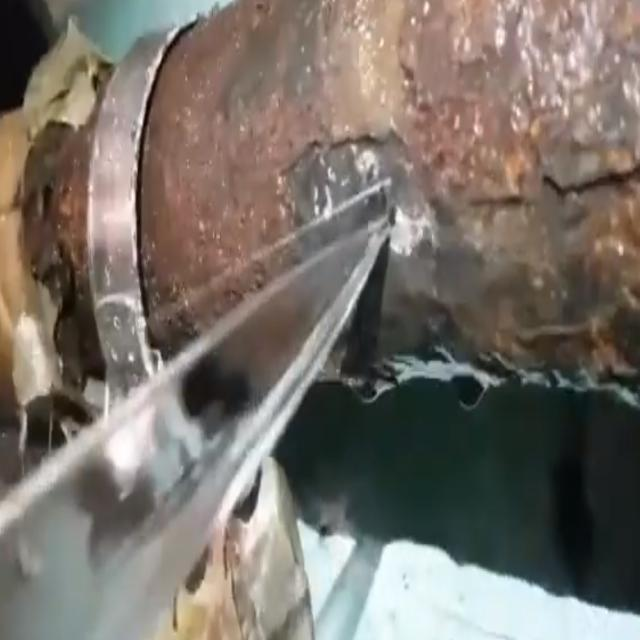leak: (0, 216, 390, 636)
